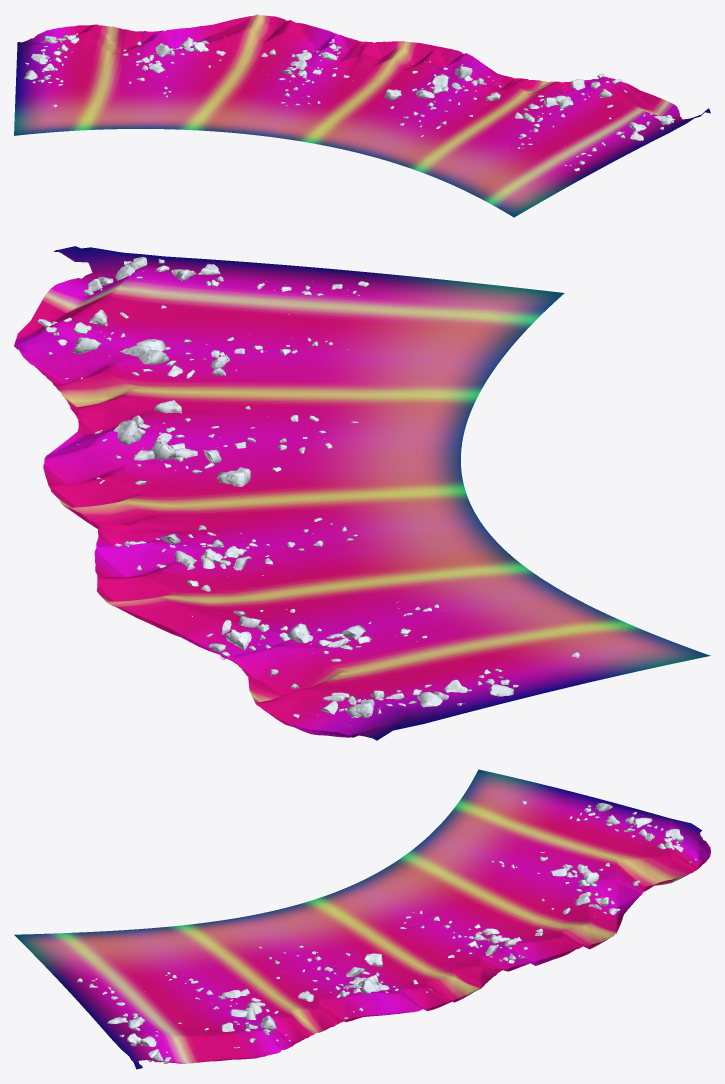
File: quarry-roadside.glb
The picture shows the model from 3 angles, top to bottom: view 1: azimuth 30°, elevation 25°; view 2: azimuth 150°, elevation 25°; view 3: azimuth 270°, elevation 25°; orthographic projection. The views are drawn at different scales.
Visible parts, largest first — view 1: RoadsideGround_1_far, RoadsideGround_2_far, RoadsideGround_0_far, RoadsideFragments_1_near, RoadsideFragments_2_near, RoadsideFragments_0_near, RoadsideFragments_1_far, RoadsideFragments_2_far, RoadsideFragments_0_far; view 2: RoadsideGround_1_far, RoadsideGround_2_far, RoadsideGround_0_far, RoadsideFragments_1_near, RoadsideFragments_2_near, RoadsideFragments_0_near, RoadsideFragments_2_far, RoadsideFragments_1_far, RoadsideFragments_0_far; view 3: RoadsideGround_2_far, RoadsideGround_1_far, RoadsideGround_0_far, RoadsideFragments_1_near, RoadsideFragments_2_near, RoadsideFragments_0_near, RoadsideFragments_2_far, RoadsideFragments_0_far, RoadsideFragments_1_far.
Boxes of the visible parts, x1=… form: RoadsideGround_1_far: x1=228, y1=22, x2=549, y2=172; RoadsideGround_2_far: x1=14, y1=14, x2=293, y2=135; RoadsideGround_0_far: x1=424, y1=76, x2=710, y2=217; RoadsideFragments_1_near: x1=267, y1=39, x2=500, y2=136; RoadsideFragments_2_near: x1=25, y1=33, x2=275, y2=107; RoadsideFragments_0_near: x1=512, y1=73, x2=673, y2=171; RoadsideFragments_1_far: x1=279, y1=38, x2=501, y2=136; RoadsideFragments_2_far: x1=24, y1=33, x2=275, y2=106; RoadsideFragments_0_far: x1=515, y1=73, x2=675, y2=170; RoadsideGround_1_far: x1=43, y1=387, x2=500, y2=581; RoadsideGround_2_far: x1=96, y1=546, x2=710, y2=740; RoadsideGround_0_far: x1=14, y1=246, x2=564, y2=394; RoadsideFragments_1_near: x1=78, y1=400, x2=357, y2=577; RoadsideFragments_2_near: x1=186, y1=580, x2=579, y2=717; RoadsideFragments_0_near: x1=38, y1=256, x2=368, y2=379; RoadsideFragments_2_far: x1=187, y1=580, x2=579, y2=726; RoadsideFragments_1_far: x1=95, y1=402, x2=358, y2=575; RoadsideFragments_0_far: x1=37, y1=258, x2=369, y2=378; RoadsideGround_2_far: x1=381, y1=769, x2=710, y2=949; RoadsideGround_1_far: x1=174, y1=870, x2=581, y2=1032; RoadsideGround_0_far: x1=14, y1=926, x2=316, y2=1069; RoadsideFragments_1_near: x1=259, y1=910, x2=527, y2=1018; RoadsideFragments_2_near: x1=491, y1=801, x2=696, y2=935; RoadsideFragments_0_near: x1=77, y1=972, x2=290, y2=1063; RoadsideFragments_2_far: x1=492, y1=800, x2=695, y2=935; RoadsideFragments_0_far: x1=77, y1=972, x2=289, y2=1063; RoadsideFragments_1_far: x1=261, y1=911, x2=526, y2=1018.
Size of the model in its own units: 87.6 by 4.12 by 85.69.
